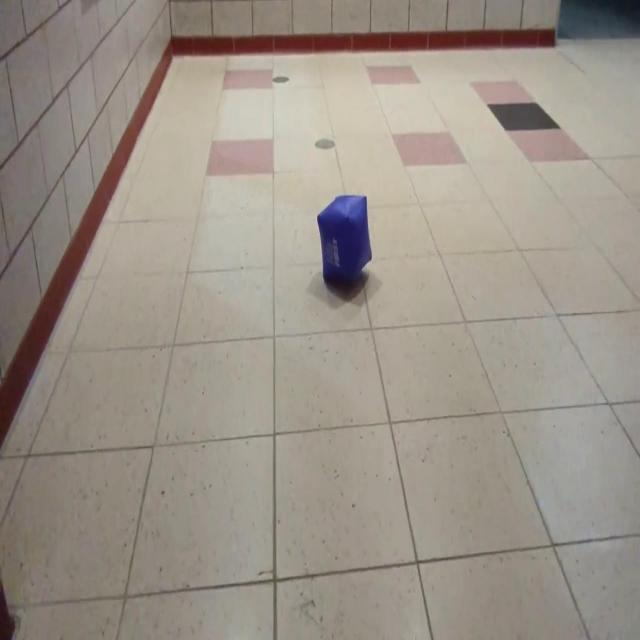frc_cube: (318, 196, 373, 288)
